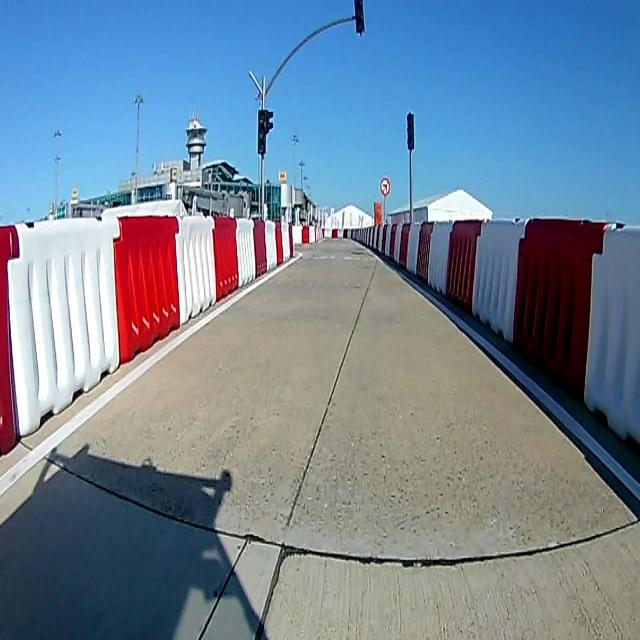soladonulmez: (380, 177, 390, 196)
